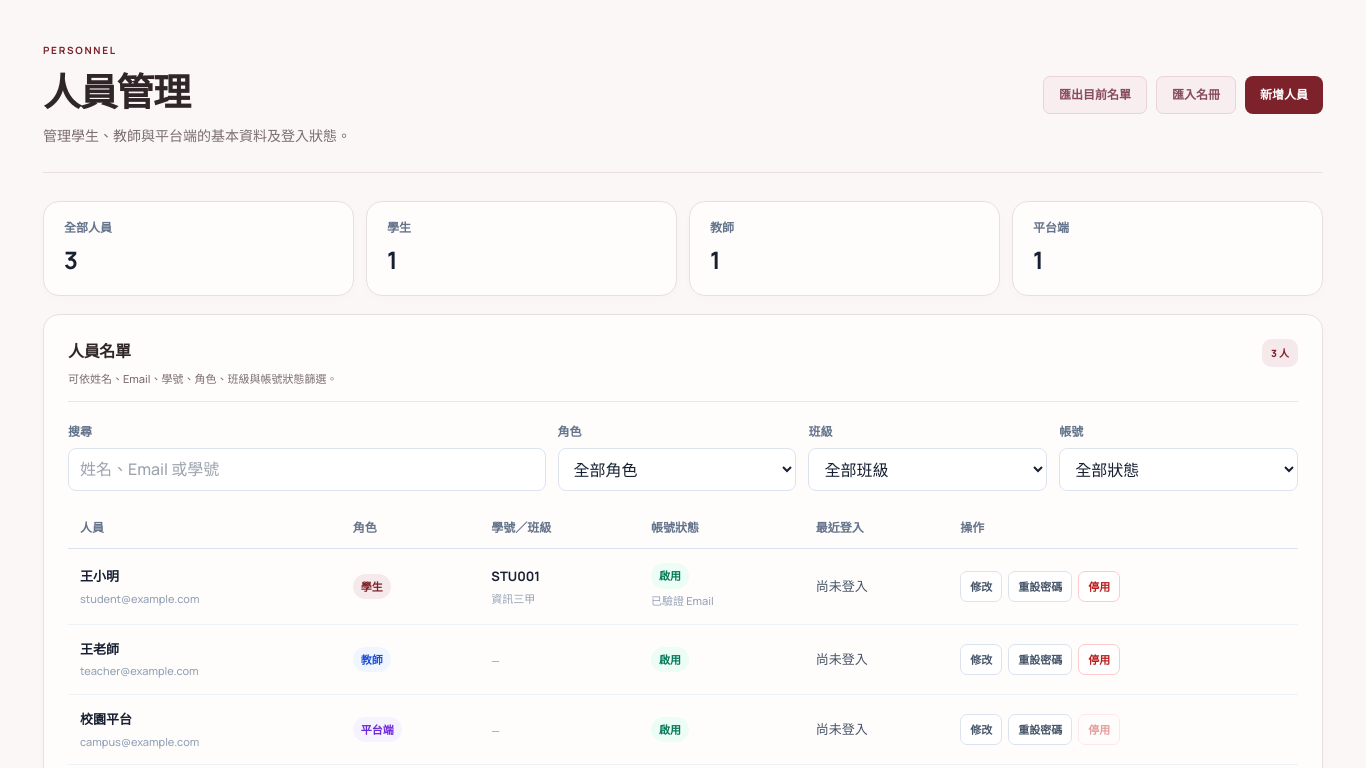
opens a complete account form for a new student
Click the button "新增人員" at (1284, 95), box [1245,76,1323,114]
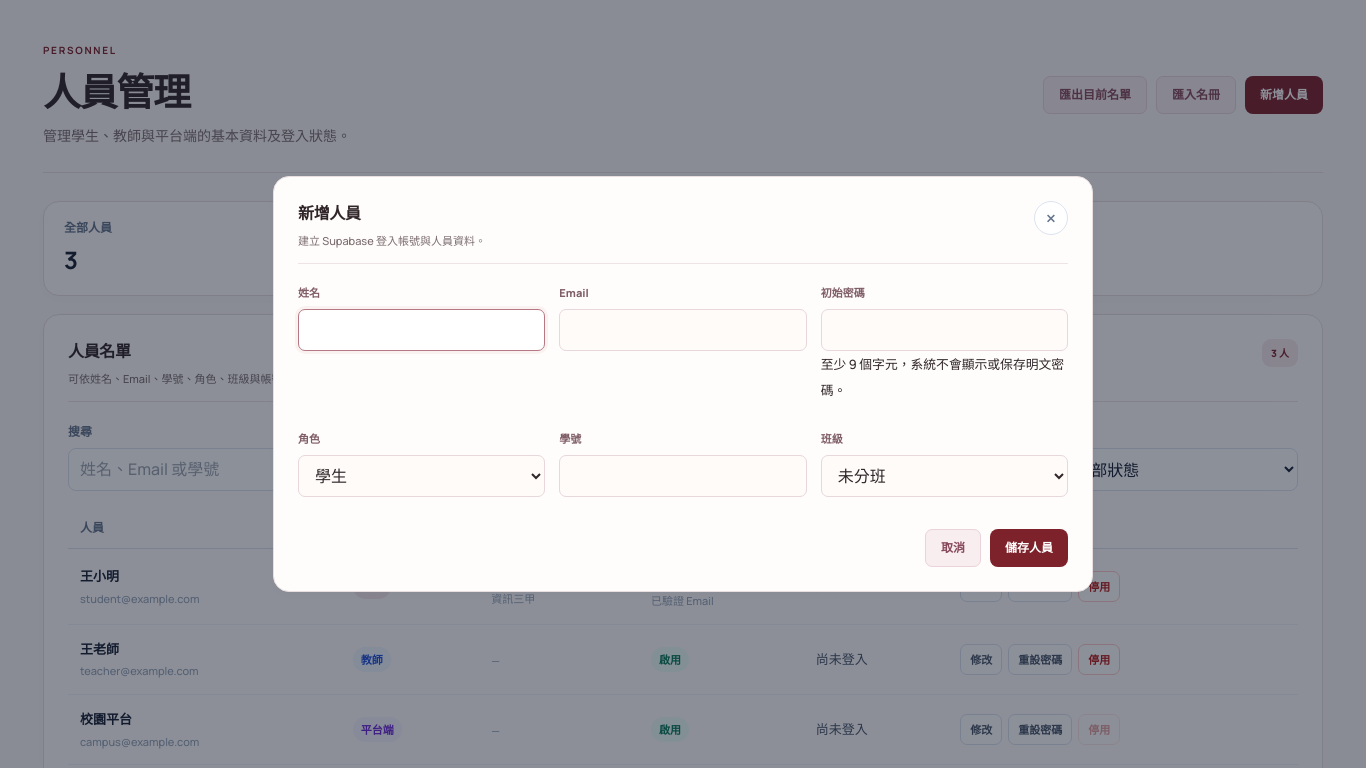
Check: the dialog is shown, box [273,176,1093,592]
Check: the heading "新增人員" is shown, box [298,202,361,224]
Press Escape
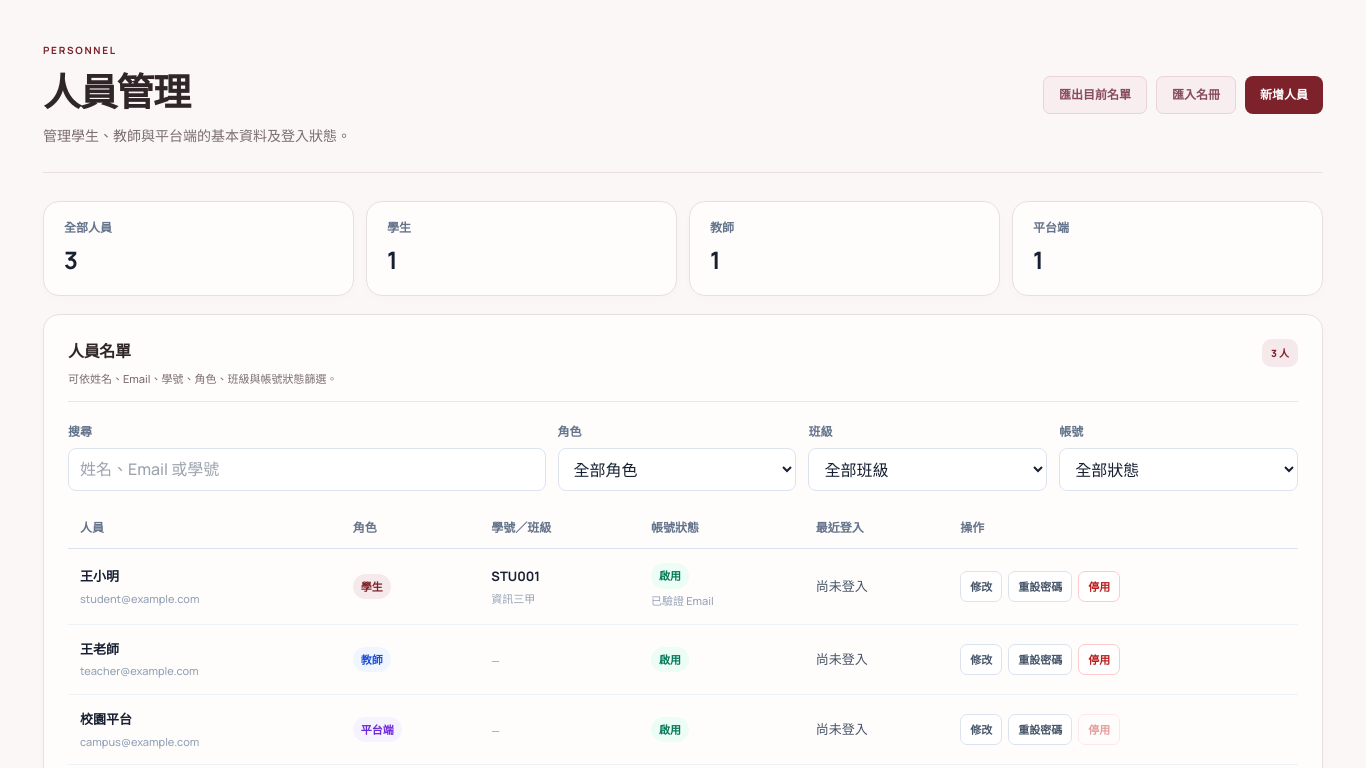
Check: the dialog is gone
